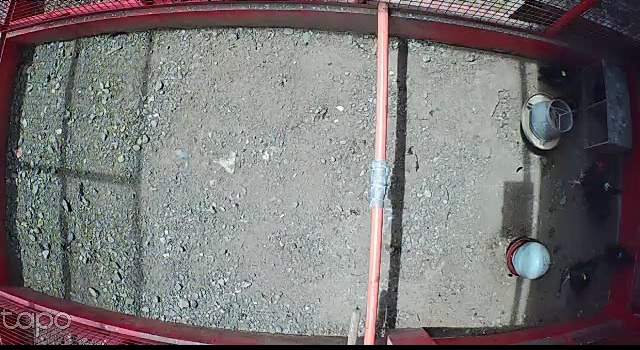Chicken: (557, 259, 599, 296), (537, 66, 579, 89)
Drinker: (507, 237, 552, 280)
Feeder: (519, 91, 575, 158)
Rooster: (567, 157, 625, 202)
Saddle_Color_Yellow: (561, 70, 566, 76)
